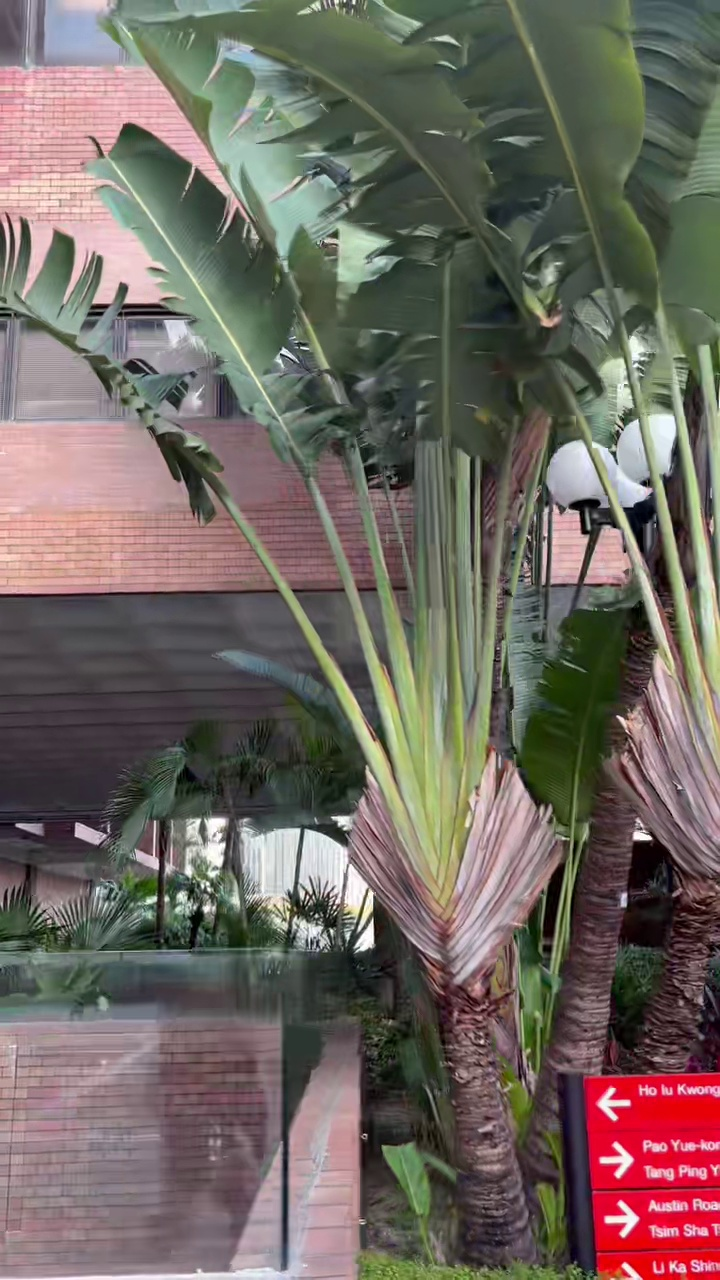Travellers-tree: (88, 0, 659, 1262)
